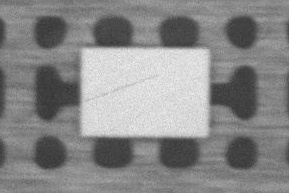DIE_CRACK: (127, 50, 235, 67)
